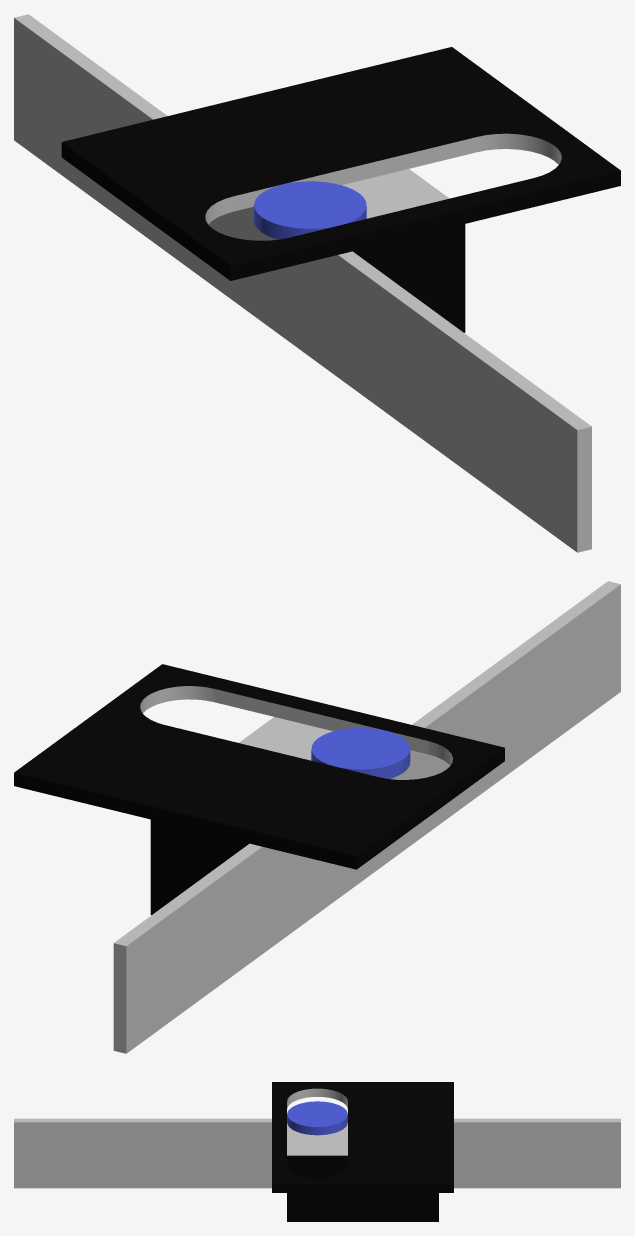
The model's file is arm_pitch.dae.
The picture shows the model from 3 angles, top to bottom: view 1: azimuth 30°, elevation 25°; view 2: azimuth 150°, elevation 25°; view 3: azimuth 270°, elevation 25°; orthographic projection. The views are drawn at different scales.
Parts seen in each view (by area): view 1: arm_pitch; view 2: arm_pitch; view 3: arm_pitch.
Boxes of the visible parts, left/top/right/bottom form: arm_pitch: left=14, top=14, right=620, bottom=552; arm_pitch: left=14, top=581, right=620, bottom=1053; arm_pitch: left=14, top=1082, right=620, bottom=1221.
Bounding box in the file's own units: 0.08 × 0.2 × 0.027.
